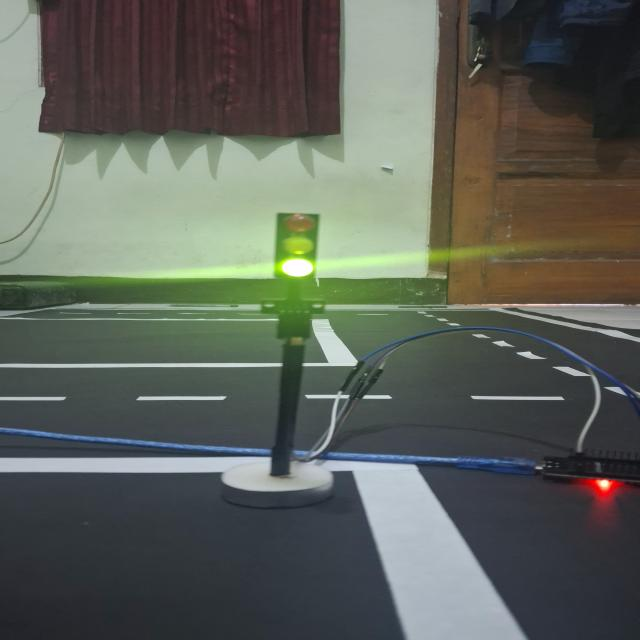Lampu Hijau: (275, 212, 320, 282)
